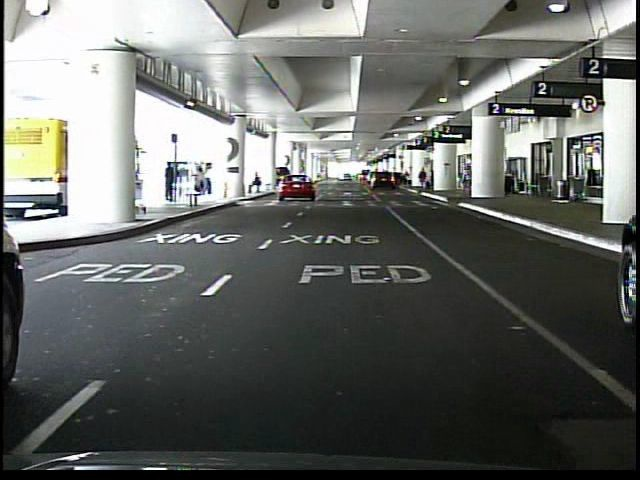person: (163, 162, 178, 205), (461, 163, 473, 196), (247, 172, 263, 196), (418, 167, 428, 192)
